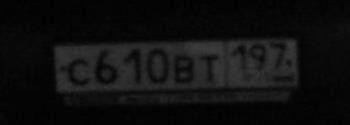license-plateSW: (53, 39, 302, 91)
